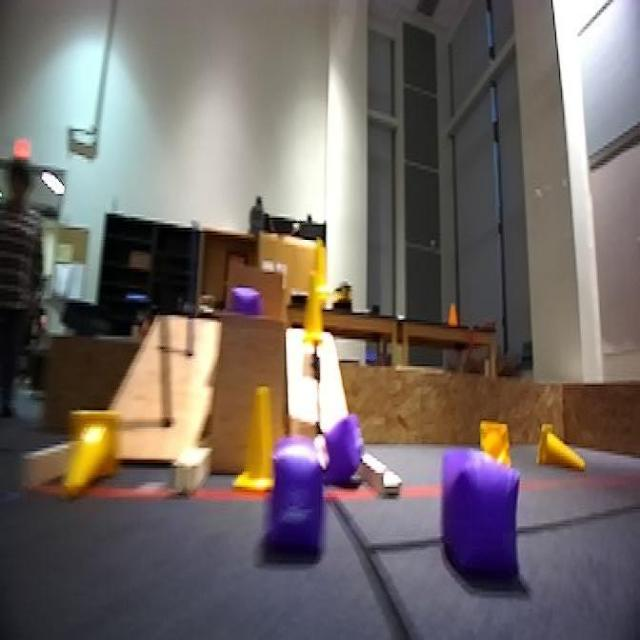frc_cone: (243, 380, 301, 500), (63, 410, 117, 500), (537, 427, 586, 472), (301, 284, 332, 354), (473, 420, 512, 465), (310, 235, 332, 305)
frc_cube: (436, 452, 530, 578), (264, 436, 320, 565), (315, 410, 362, 490), (229, 289, 262, 322)
